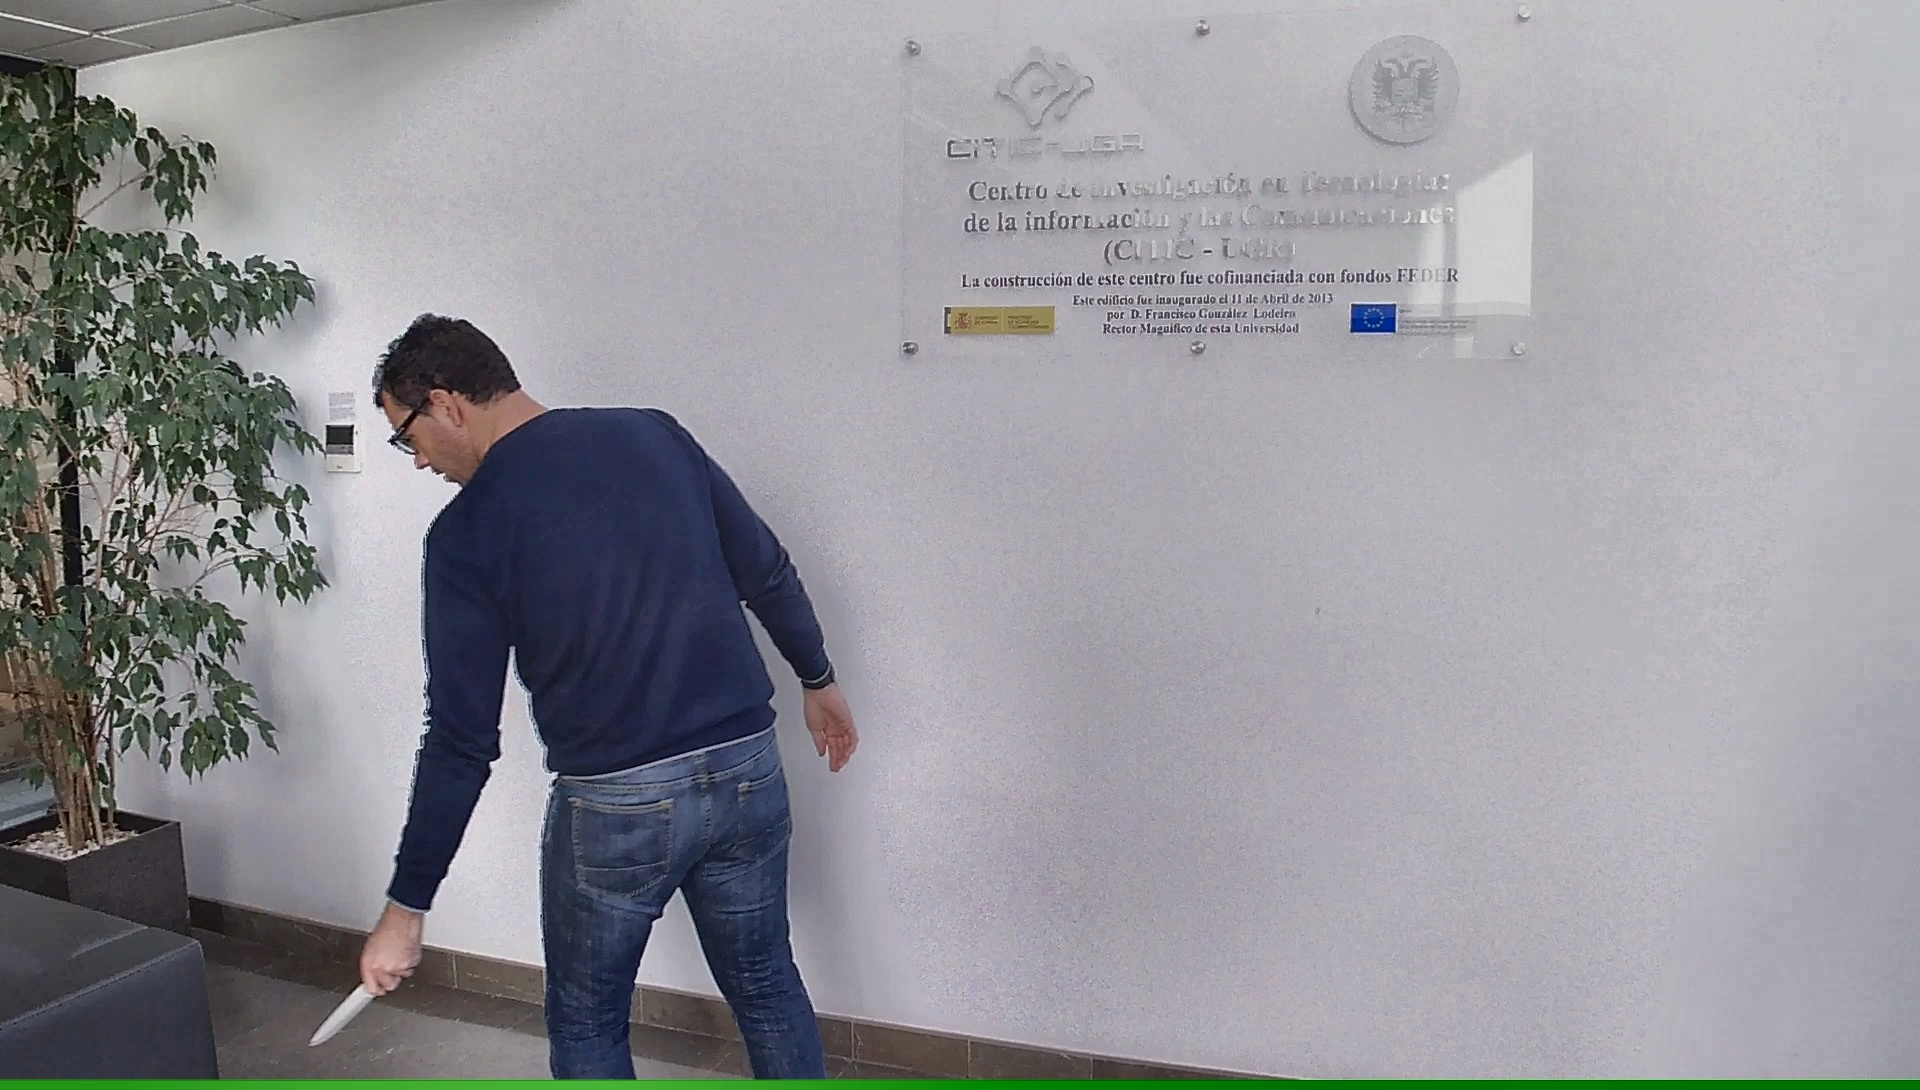knife: (301, 948, 413, 1054)
